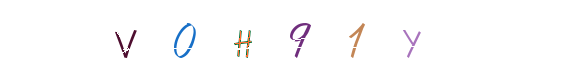0: (144, 0, 224, 80)
1: (256, 0, 336, 80)
9: (245, 0, 325, 80)
H: (233, 0, 313, 80)
V: (115, 0, 195, 80)
Y: (275, 0, 355, 80)
